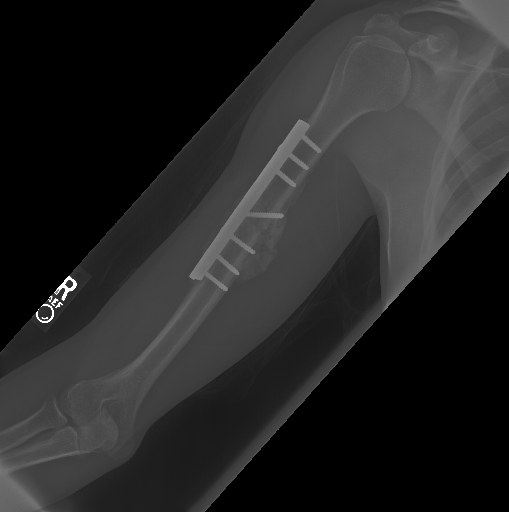implant: (191, 120, 324, 292)
